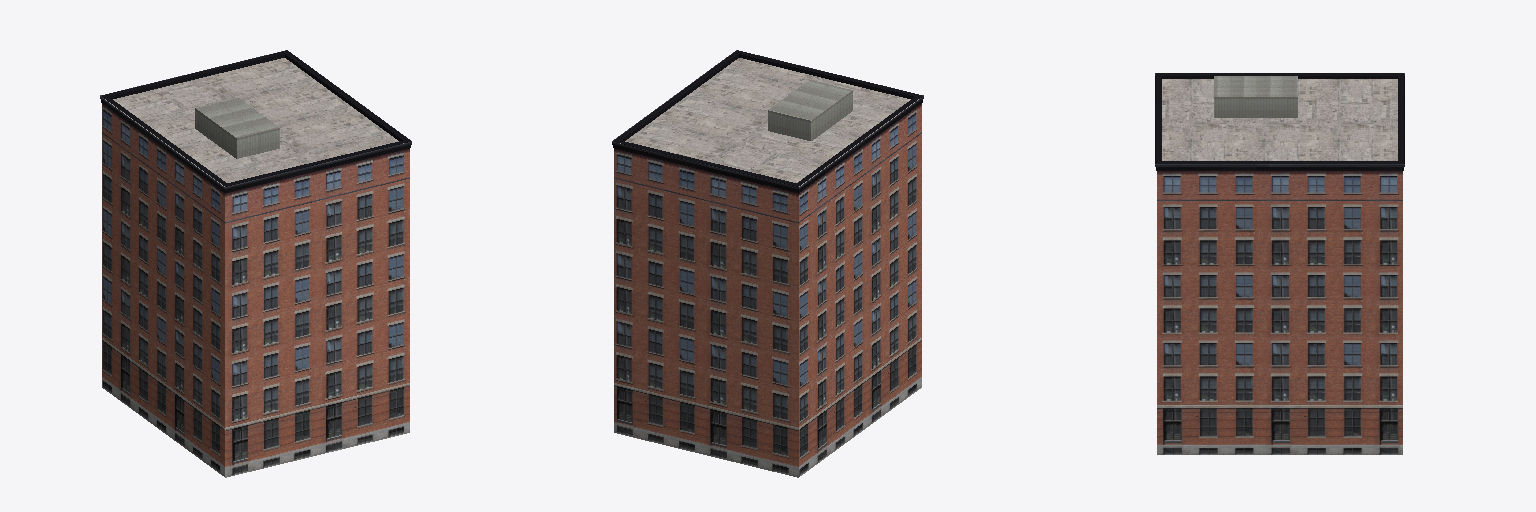
3 views of the same model, side by side, from view 1: azimuth 30°, elevation 25°; view 2: azimuth 150°, elevation 25°; view 3: azimuth 270°, elevation 25° (orthographic).
Parts seen in each view (by area): view 1: building_21; view 2: building_21; view 3: building_21.
Part boxes in pixels (bbox=[...]): building_21: bbox=[100, 50, 411, 477]; building_21: bbox=[612, 50, 923, 477]; building_21: bbox=[1155, 73, 1404, 454].
Size of the model in its own units: 59.05 by 92.87 by 68.2.
1 materials, 1 textured.